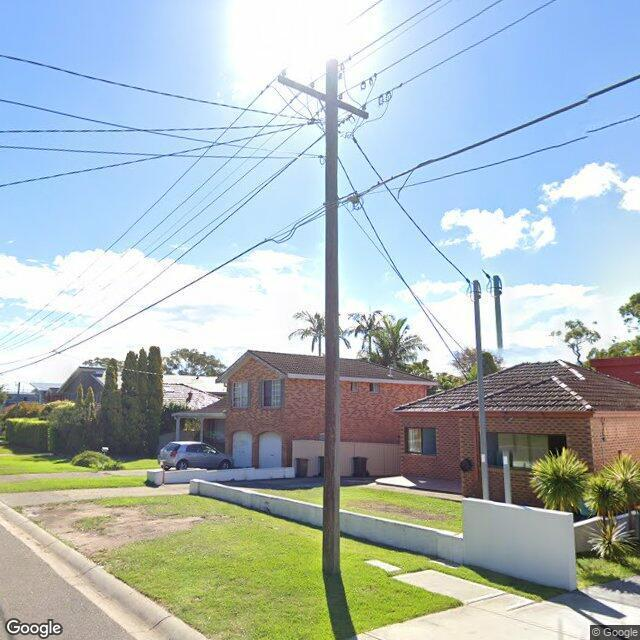crossarm: (277, 74, 370, 120)
steel-pole: (472, 276, 512, 504)
timber-pole: (321, 59, 347, 576)
